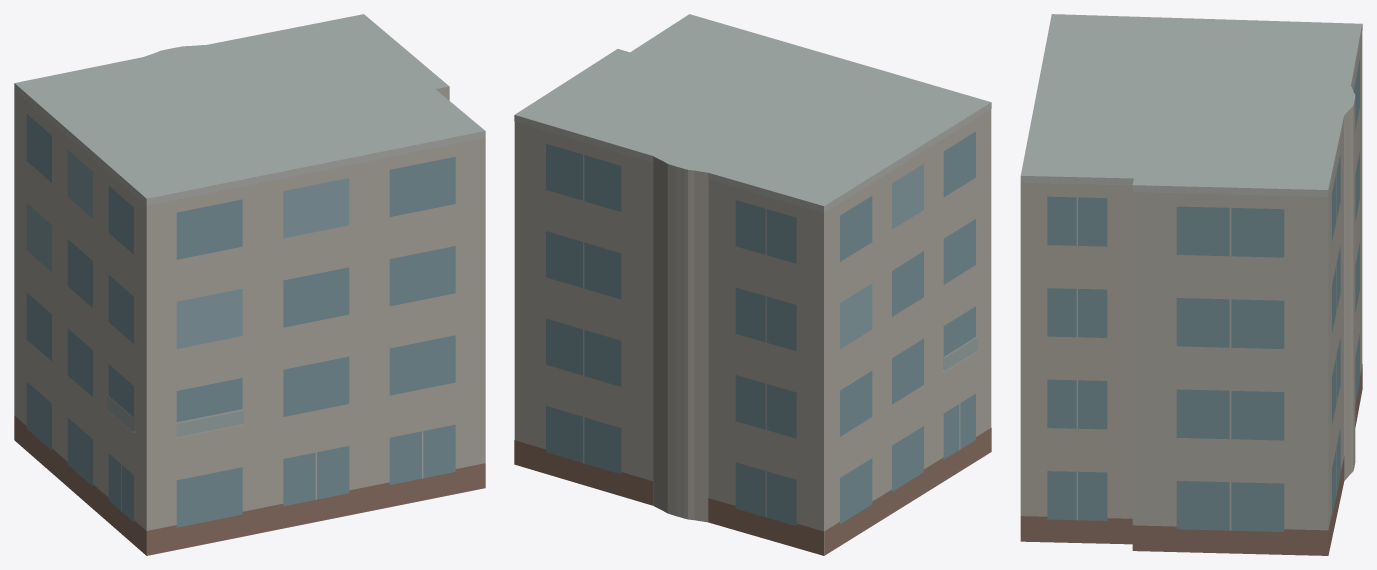
Rendered from survey-upis-32464260.glb.
The picture shows the model from 3 angles, left to right: view 1: azimuth 30°, elevation 25°; view 2: azimuth 150°, elevation 25°; view 3: azimuth 270°, elevation 25°; orthographic projection. The views are drawn at different scales.
Parts seen in each view (by area): view 1: survey-upis-32464260.tmp; view 2: survey-upis-32464260.tmp; view 3: survey-upis-32464260.tmp.
Boxes of the visible parts, <box> form: survey-upis-32464260.tmp: <box>14,14,485,555</box>; survey-upis-32464260.tmp: <box>514,14,991,555</box>; survey-upis-32464260.tmp: <box>1020,14,1362,555</box>.
Bounding box in the file's own units: 13.22 × 12.8 × 10.85.
